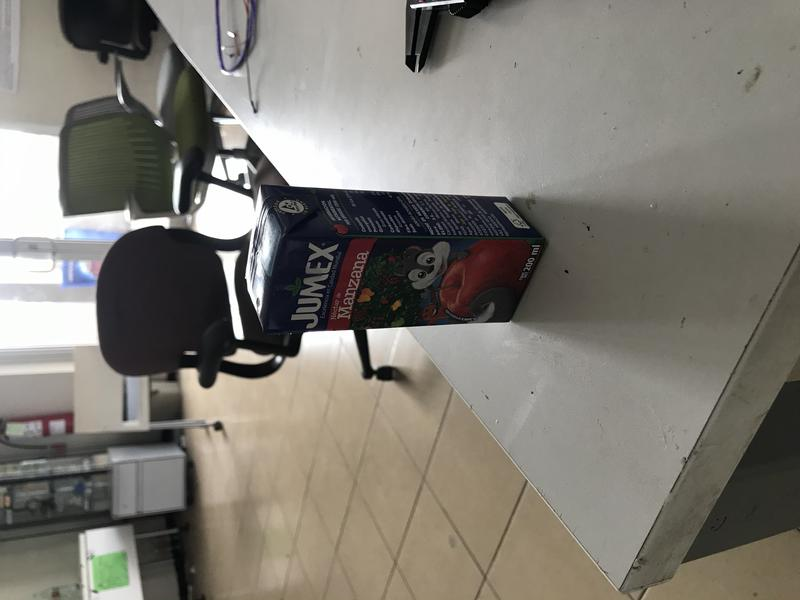jumex_cajita: (242, 186, 552, 332)
